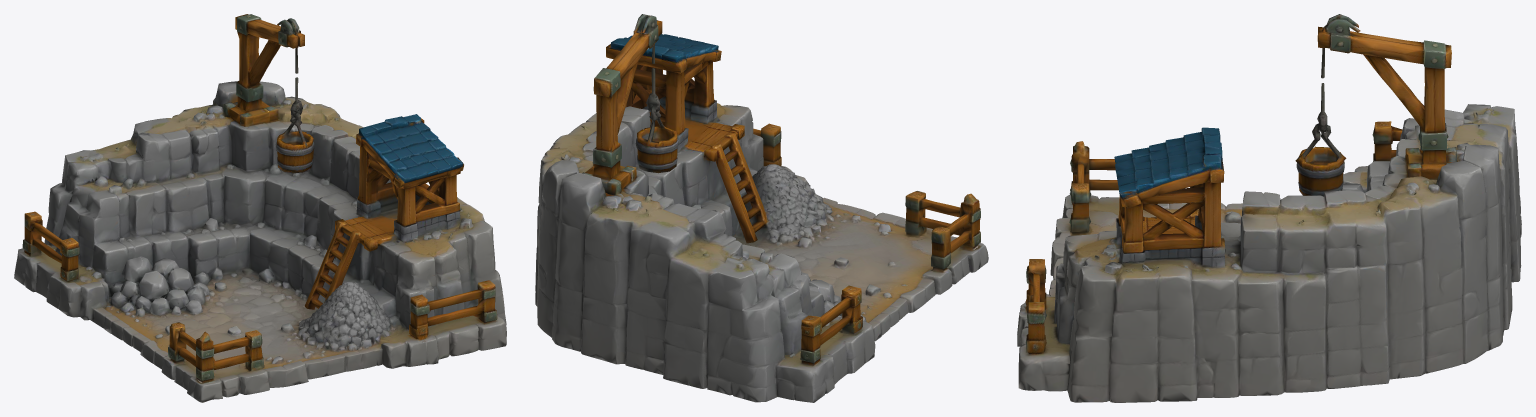
File: quarry.glb
3 views of the same model, side by side, from view 1: azimuth 30°, elevation 25°; view 2: azimuth 150°, elevation 25°; view 3: azimuth 270°, elevation 25° (orthographic). The views are drawn at different scales.
Parts seen in each view (by area): view 1: tripo_node_5dd7ecd7-8ebe-4235-9b71-3fcdcdb0092b; view 2: tripo_node_5dd7ecd7-8ebe-4235-9b71-3fcdcdb0092b; view 3: tripo_node_5dd7ecd7-8ebe-4235-9b71-3fcdcdb0092b.
Boxes of the visible parts, x1,y1,x2,y2 form: tripo_node_5dd7ecd7-8ebe-4235-9b71-3fcdcdb0092b: (14, 14, 506, 402); tripo_node_5dd7ecd7-8ebe-4235-9b71-3fcdcdb0092b: (535, 14, 988, 402); tripo_node_5dd7ecd7-8ebe-4235-9b71-3fcdcdb0092b: (1017, 14, 1521, 402).
Bounding box in the file's own units: 0.9359 × 0.6968 × 1.
Materials: 1 (1 with a texture image).
